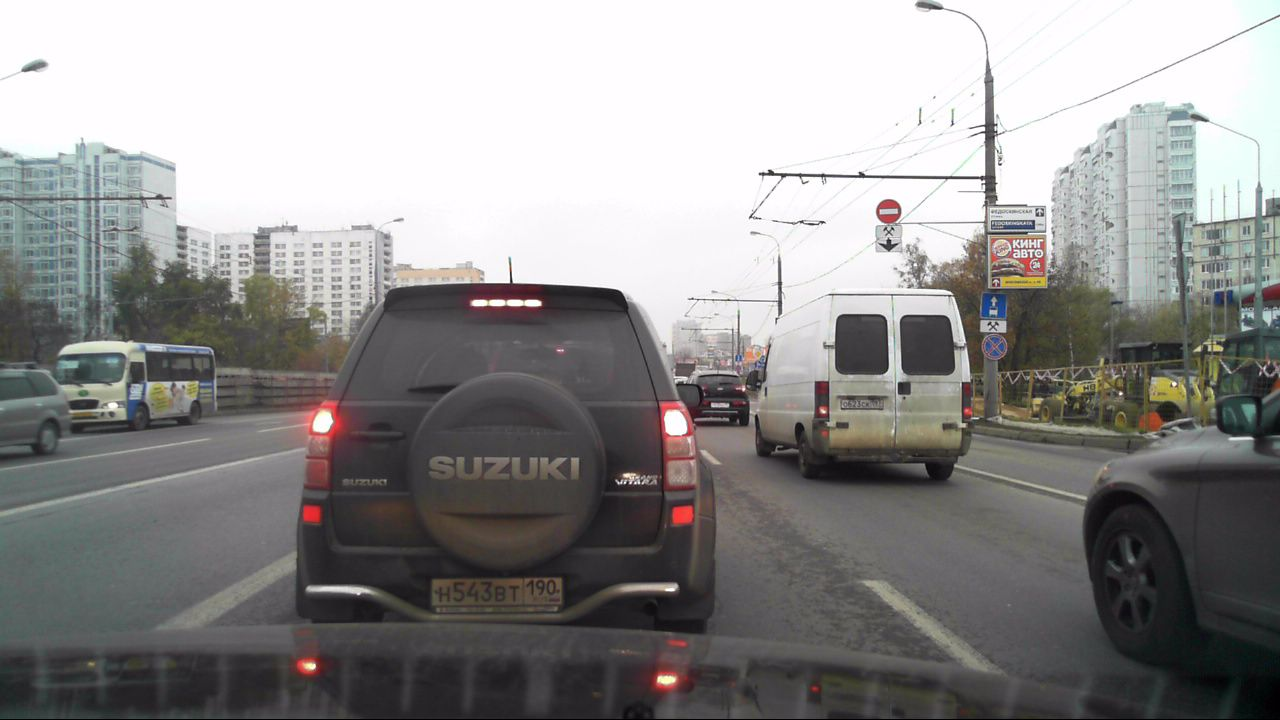No Parking: (982, 335, 1007, 360)
